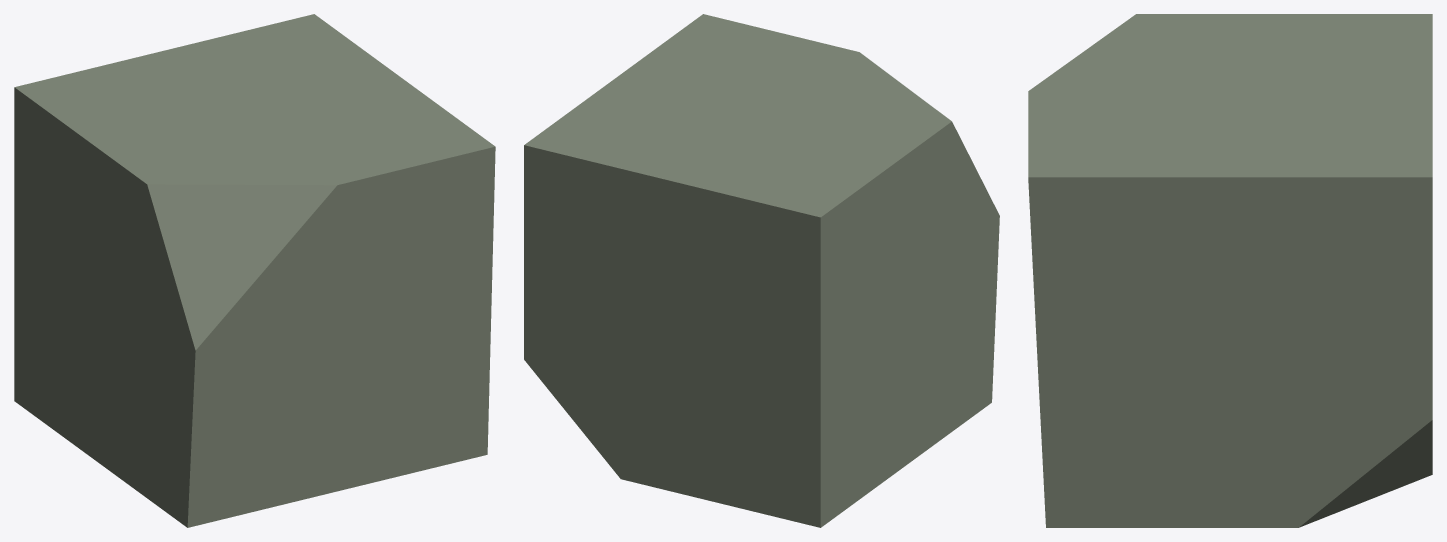
Rendered from pillar_corner_element_4.fbx.
The picture shows the model from 3 angles, left to right: view 1: azimuth 30°, elevation 25°; view 2: azimuth 150°, elevation 25°; view 3: azimuth 270°, elevation 25°; orthographic projection. The views are drawn at different scales.
Visible parts, largest first — view 1: pillar_corner_element_4; view 2: pillar_corner_element_4; view 3: pillar_corner_element_4.
Part boxes in pixels (x1,y1,x2,y2): pillar_corner_element_4: [14, 14, 495, 527]; pillar_corner_element_4: [524, 14, 999, 527]; pillar_corner_element_4: [1028, 14, 1432, 527].
Size of the model in its own units: 25 by 25 by 26.15.
